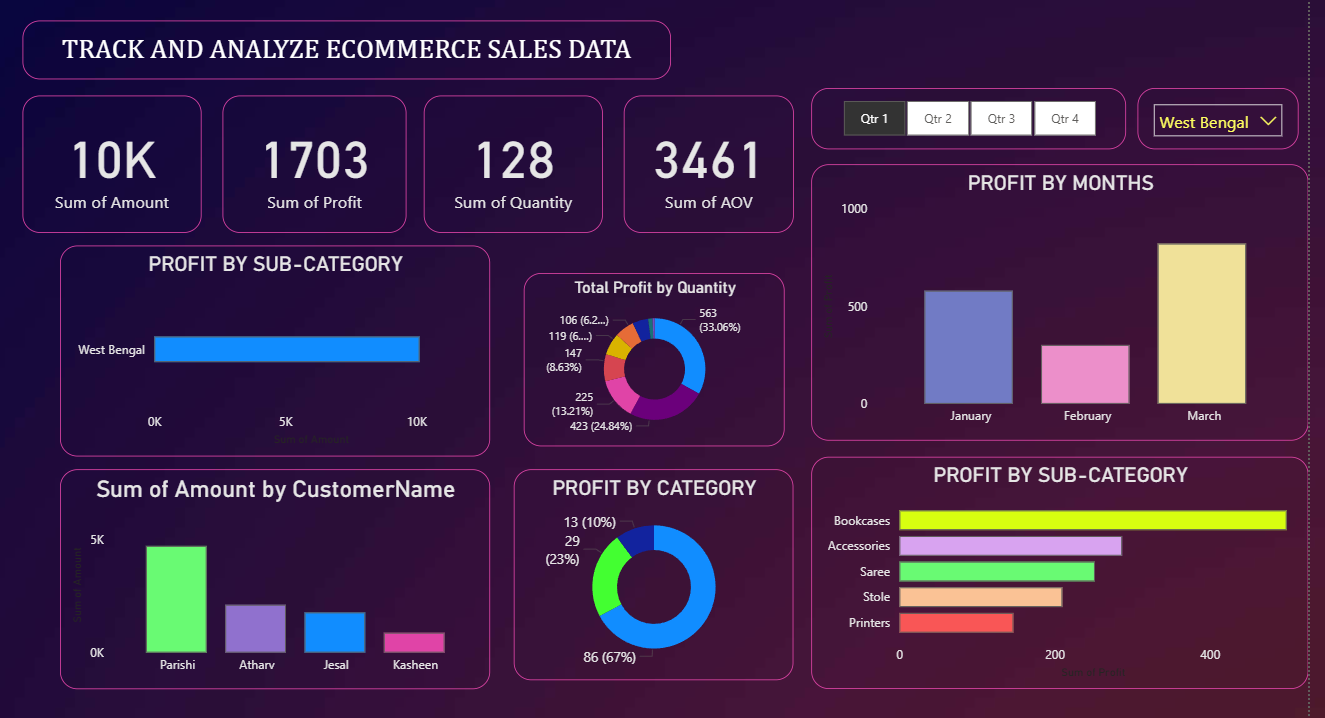

This screenshot's page, from the dashboard's own definition file:
{"tool":"powerbi","page":{"name":"Page 1","canvas":[1280,720],"ordinal":0},"visuals":[{"type":"textbox","box":[22,26.9,634.7,57.5],"z":0},{"type":"columnChart","title":"PROFIT BY MONTHS","fields":{"Category":["Orders.Order Date.Variation.Date Hierarchy.Month"],"Y":["Details.Profit"]},"box":[793.6,167.5,486.7,270.2],"z":1000},{"type":"barChart","title":"PROFIT BY SUB-CATEGORY","fields":{"Category":["Details.Sub-Category"],"Y":["Details.Profit"]},"box":[793.6,453.7,486.7,227.4],"z":2000},{"type":"donutChart","title":"PROFIT BY CATEGORY","fields":{"Category":["Details.Category"],"Y":["Details.Quantity"]},"box":[502.6,465.9,273.9,206.7],"z":3000},{"type":"card","fields":{"Values":["Details.Amount"]},"box":[22,100.3,174.9,134.5],"z":5000},{"type":"card","fields":{"Values":["Details.Quantity"]},"box":[414.5,100.3,174.9,134.5],"z":6000},{"type":"card","fields":{"Values":["Details.AOV"]},"box":[610.2,100.3,166.3,134.5],"z":7000},{"type":"card","fields":{"Values":["Details.Profit"]},"box":[217.7,100.3,179.8,134.5],"z":8000},{"type":"barChart","title":"PROFIT BY SUB-CATEGORY","fields":{"Category":["Orders.State"],"Y":["Details.Amount"]},"box":[58.7,247,420.7,206.7],"z":9000},{"type":"columnChart","fields":{"Category":["Orders.CustomerName"],"Y":["Details.Amount"]},"box":[58.7,465.9,420.7,215.2],"z":10000},{"type":"slicer","fields":{"Values":["Orders.Order Date.Variation.Date Hierarchy.Quarter"]},"box":[793.6,92.9,337.5,59.9],"z":11000},{"type":"slicer","fields":{"Values":["Orders.State"]},"box":[1143.3,92.9,137,59.9],"z":12000},{"type":"donutChart","title":"Total Profit by Quantity","fields":{"Category":["Details.Quantity"],"Y":["Details.Profit"]},"box":[512.4,273.9,255.6,170],"z":13000}]}

Visuals, with their boxes on the page's 1280x720 design canvas (x1, y1, x2, y2). These are canvas units, not pixel positions in the 1325x718 screenshot, which may show the page scaled, cropped or inside an application window:
textbox: {"left": 22, "top": 27, "right": 657, "bottom": 84}
"PROFIT BY MONTHS" columnChart: {"left": 794, "top": 168, "right": 1280, "bottom": 438}
"PROFIT BY SUB-CATEGORY" barChart: {"left": 794, "top": 454, "right": 1280, "bottom": 681}
"PROFIT BY CATEGORY" donutChart: {"left": 503, "top": 466, "right": 776, "bottom": 673}
card - Details.Amount: {"left": 22, "top": 100, "right": 197, "bottom": 235}
card - Details.Quantity: {"left": 414, "top": 100, "right": 589, "bottom": 235}
card - Details.AOV: {"left": 610, "top": 100, "right": 776, "bottom": 235}
card - Details.Profit: {"left": 218, "top": 100, "right": 398, "bottom": 235}
"PROFIT BY SUB-CATEGORY" barChart: {"left": 59, "top": 247, "right": 479, "bottom": 454}
columnChart - Orders.CustomerName x Details.Amount: {"left": 59, "top": 466, "right": 479, "bottom": 681}
slicer - Orders.Order Date.Variation.Date Hierarchy.Quarter: {"left": 794, "top": 93, "right": 1131, "bottom": 153}
slicer - Orders.State: {"left": 1143, "top": 93, "right": 1280, "bottom": 153}
"Total Profit by Quantity" donutChart: {"left": 512, "top": 274, "right": 768, "bottom": 444}
